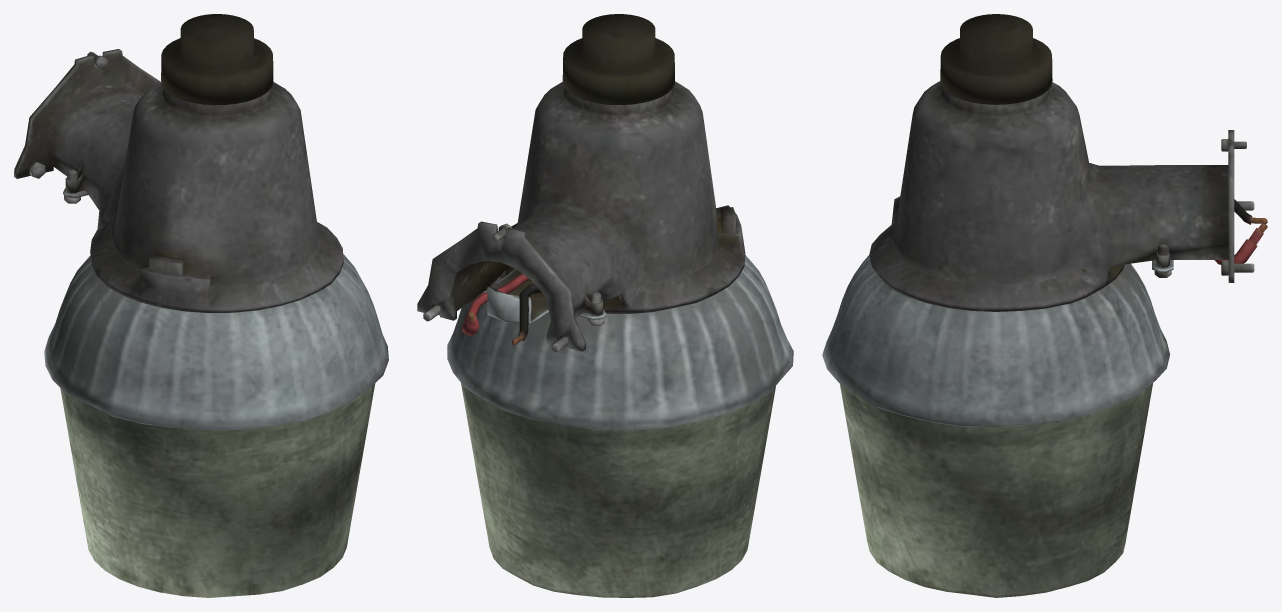
The model's file is security_light.glb.
The picture shows the model from 3 angles, left to right: view 1: azimuth 30°, elevation 25°; view 2: azimuth 150°, elevation 25°; view 3: azimuth 270°, elevation 25°; orthographic projection.
Visible parts, largest first — view 1: security_light, security_light_glass; view 2: security_light, security_light_glass; view 3: security_light, security_light_glass.
Boxes of the visible parts, x1=… form: security_light: x1=14, y1=14, x2=388, y2=429; security_light_glass: x1=60, y1=383, x2=375, y2=597; security_light: x1=417, y1=14, x2=793, y2=430; security_light_glass: x1=461, y1=383, x2=775, y2=597; security_light: x1=822, y1=14, x2=1267, y2=426; security_light_glass: x1=840, y1=383, x2=1152, y2=597.
Size of the model in its own units: 0.3231 by 0.531 by 0.4172.
2 materials, 2 textured.
